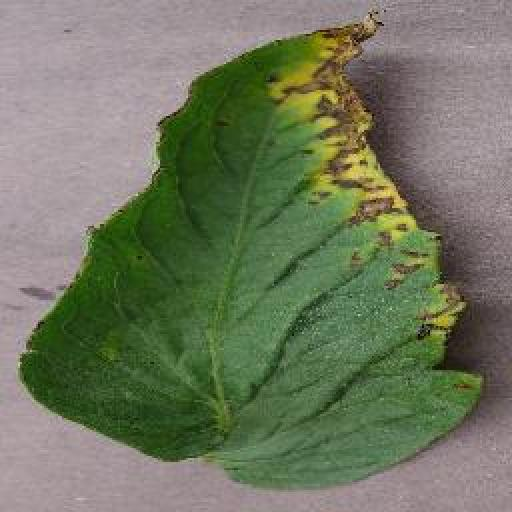Bacterial Spot: (15, 1, 491, 499)
